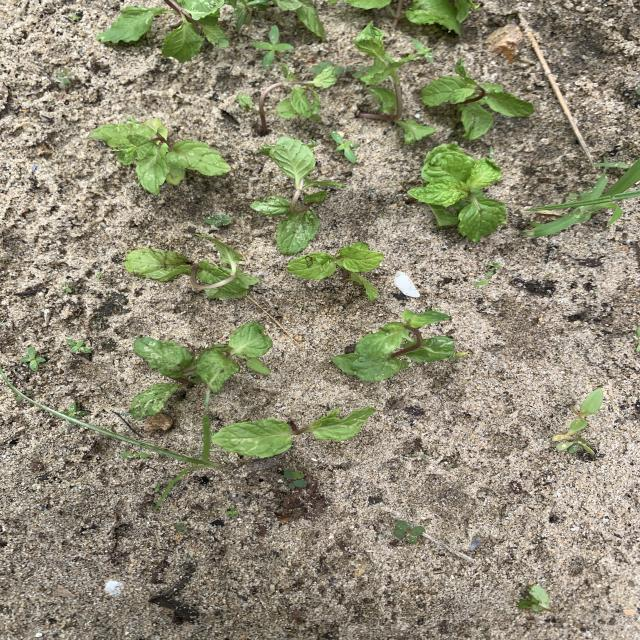crop: (251, 136, 344, 253), (90, 118, 229, 193), (353, 21, 435, 144), (409, 144, 507, 241), (421, 58, 533, 139), (124, 232, 259, 299), (332, 310, 461, 380), (216, 407, 374, 456), (98, 1, 227, 60), (236, 61, 342, 132), (130, 337, 201, 419), (195, 322, 271, 391), (288, 243, 383, 298), (407, 1, 477, 34), (272, 1, 323, 38), (519, 585, 555, 612)
weed: (0, 366, 218, 509), (521, 160, 639, 235), (253, 26, 291, 66), (570, 388, 602, 431), (227, 0, 269, 28), (553, 430, 594, 453), (331, 132, 359, 161), (393, 520, 425, 543), (20, 346, 43, 371), (284, 469, 305, 489), (66, 339, 91, 354), (56, 68, 75, 86), (204, 215, 231, 226), (64, 403, 86, 415), (474, 276, 491, 286), (120, 452, 149, 457), (226, 508, 239, 516), (173, 523, 186, 531), (61, 285, 71, 291), (71, 14, 80, 19), (95, 273, 102, 278)
